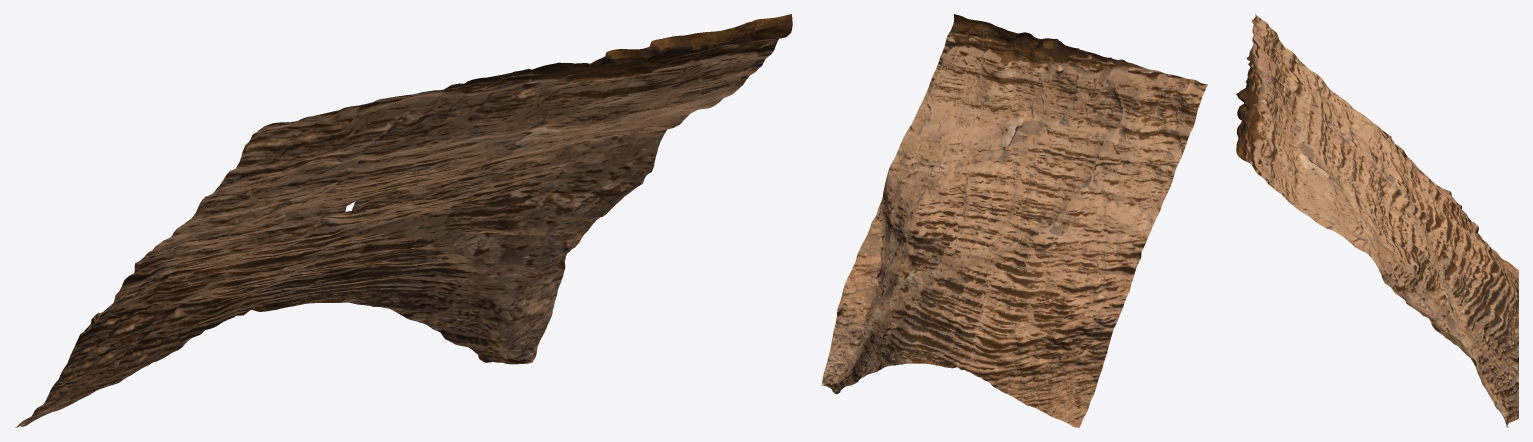
3 views of the same model, side by side, from view 1: azimuth 30°, elevation 25°; view 2: azimuth 150°, elevation 25°; view 3: azimuth 270°, elevation 25° (orthographic). The views are drawn at different scales.
Bounding box in the file's own units: 1.04 × 1.04 × 0.9479.
3 materials, 3 textured.
